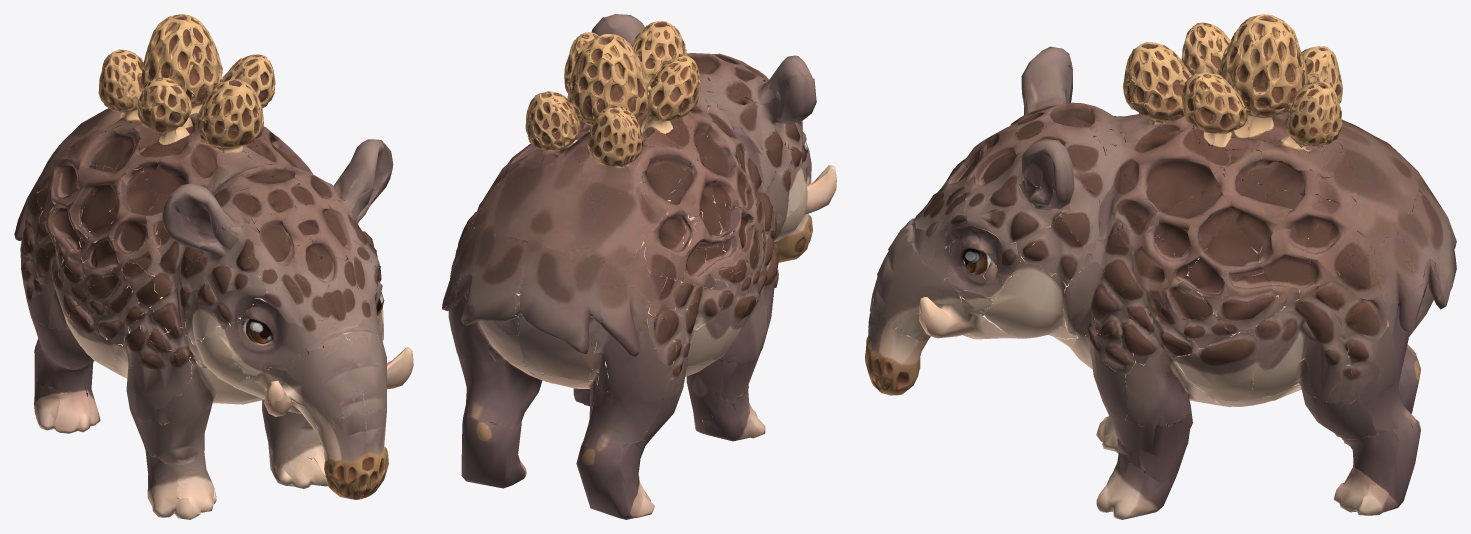
3 renders of one model, left to right at view 1: azimuth 30°, elevation 25°; view 2: azimuth 150°, elevation 25°; view 3: azimuth 270°, elevation 25°, orthographic. The views are drawn at different scales.
Visible parts, largest first — view 1: Mesh_0; view 2: Mesh_0; view 3: Mesh_0.
Boxes of the visible parts, left/top/right/bottom form: Mesh_0: left=14, top=14, right=413, bottom=519; Mesh_0: left=442, top=14, right=836, bottom=519; Mesh_0: left=865, top=14, right=1456, bottom=519.
Bounding box in the file's own units: 0.9953 × 1.62 × 1.9.
Materials: 1 (1 with a texture image).
